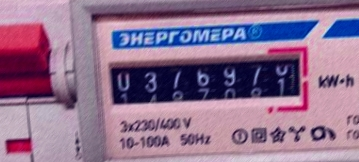0: (116, 69, 132, 91)
1: (275, 76, 288, 97)
3: (143, 70, 160, 93)
6: (195, 63, 212, 87)
7: (168, 65, 185, 89), (249, 62, 265, 86)
9: (221, 63, 238, 87)
screen: (99, 40, 314, 126)
